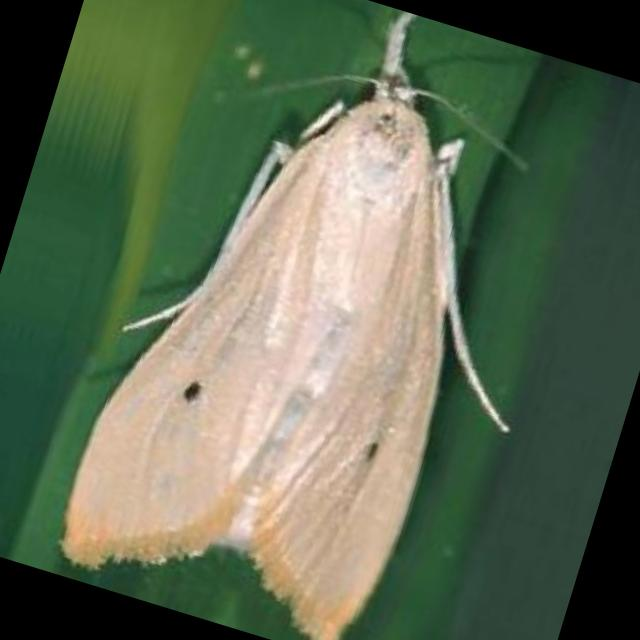stem-borer: (39, 0, 621, 640)
